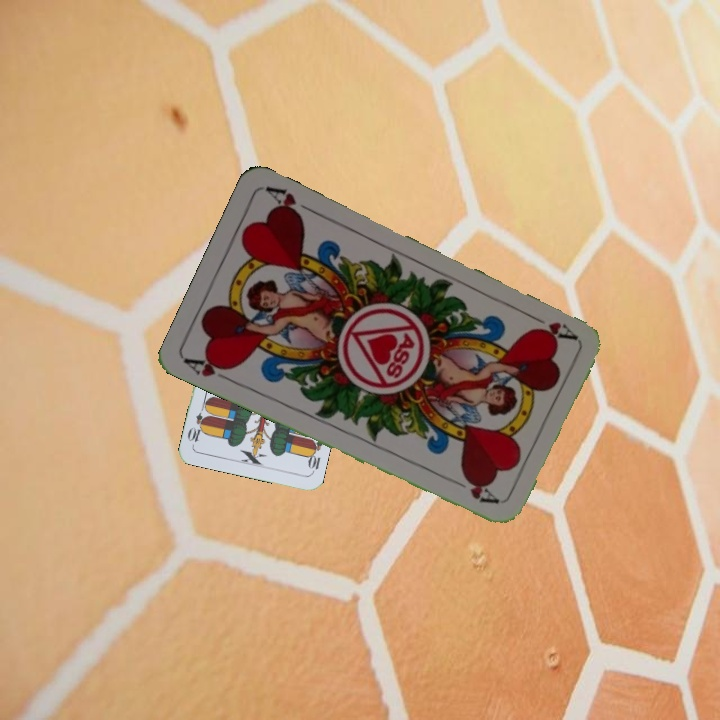E10: (304, 435, 325, 476)
HA: (181, 352, 238, 387), (523, 309, 579, 343)
